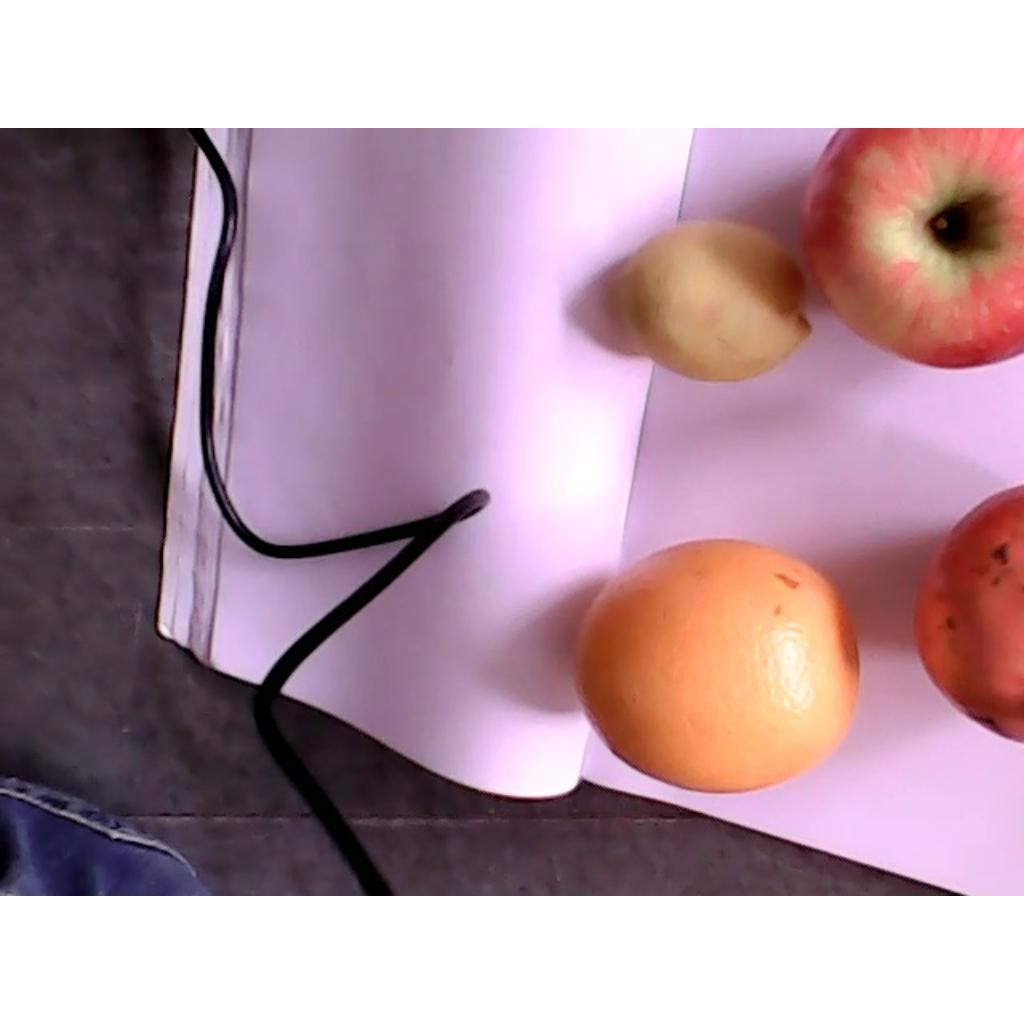apple: (803, 128, 1022, 369)
lemon: (607, 220, 812, 381)
orange: (572, 539, 862, 793)
pomegranate: (914, 484, 1022, 744)
